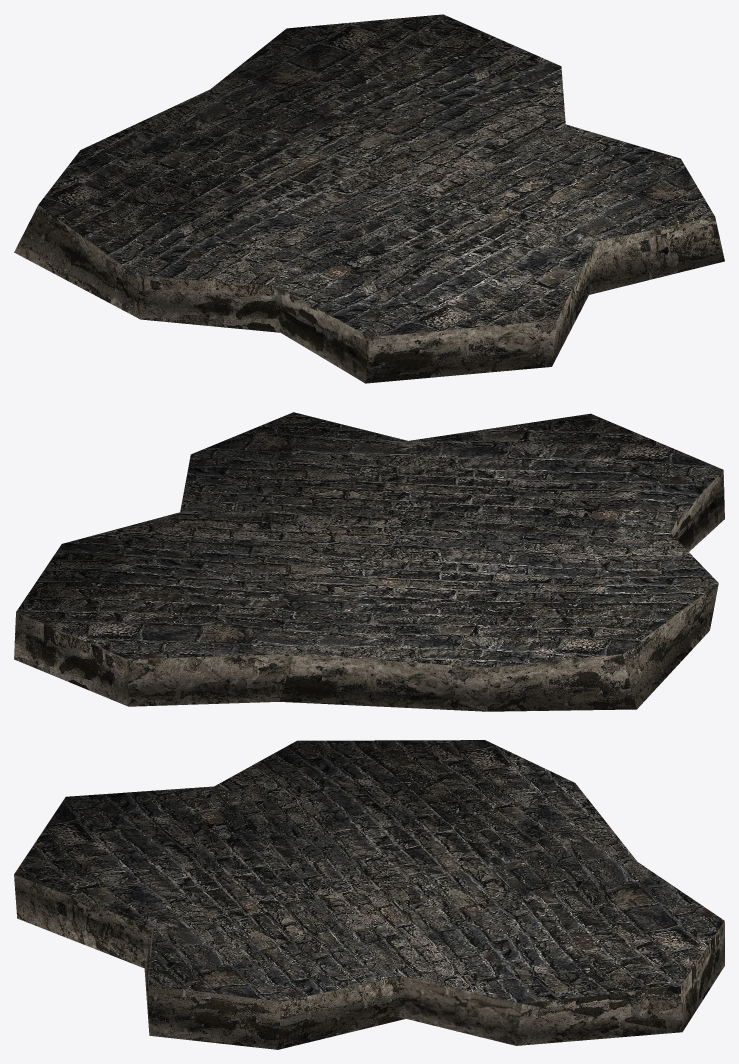
The model's file is KM_VOB_VOLFZACKE_RUINED_WALL_02.glb.
3 renders of one model, top to bottom at view 1: azimuth 30°, elevation 25°; view 2: azimuth 150°, elevation 25°; view 3: azimuth 270°, elevation 25°, orthographic. The views are drawn at different scales.
Visible parts, largest first — view 1: Mesh; view 2: Mesh; view 3: Mesh.
Part boxes in pixels (box(x1,y1,x2,y2)): Mesh: box(14, 14, 724, 383); Mesh: box(14, 412, 724, 711); Mesh: box(14, 740, 724, 1049).
Size of the model in its own units: 6 by 0.565 by 6.8.
Materials: 3 (3 with a texture image).
